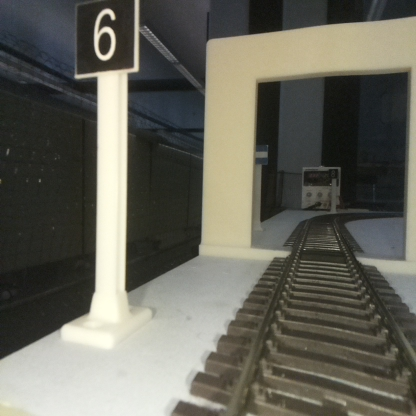black-info-6: (75, 0, 134, 339)
start: (255, 144, 268, 230)
